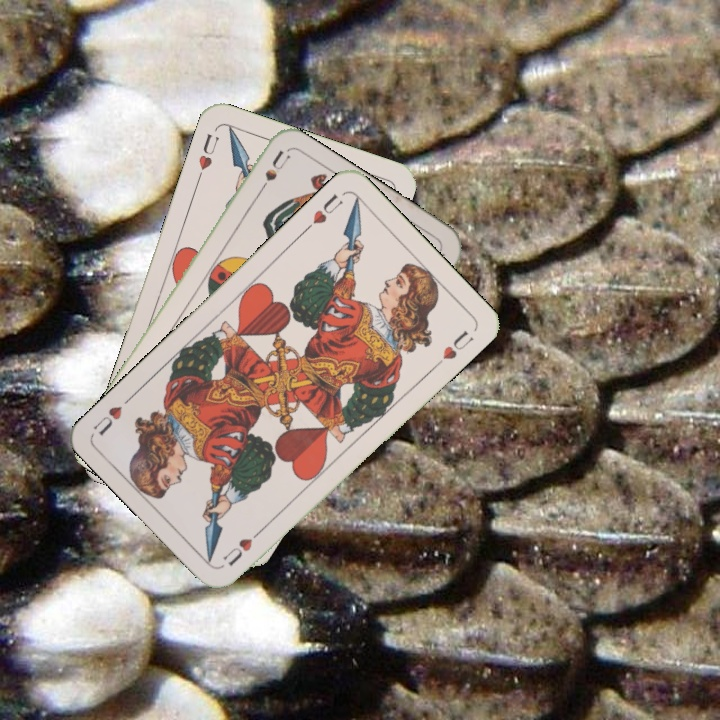HU: (218, 524, 266, 569), (300, 189, 346, 235), (193, 130, 222, 183)
SU: (251, 147, 293, 202)
